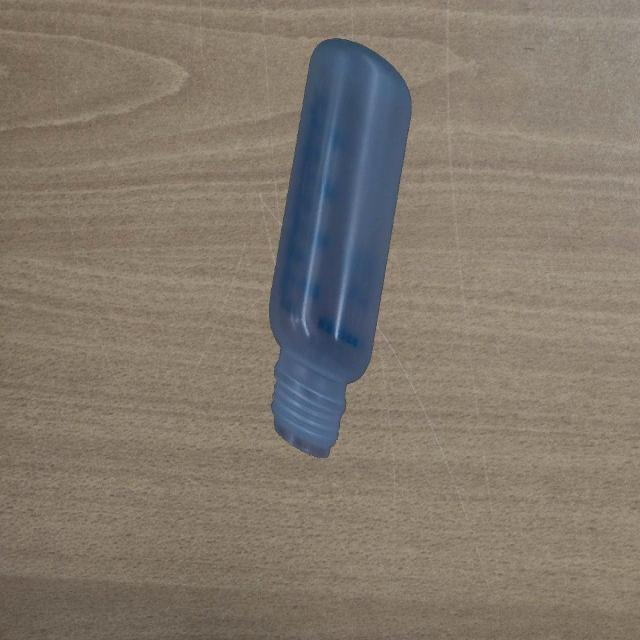bottle: (268, 34, 412, 460)
